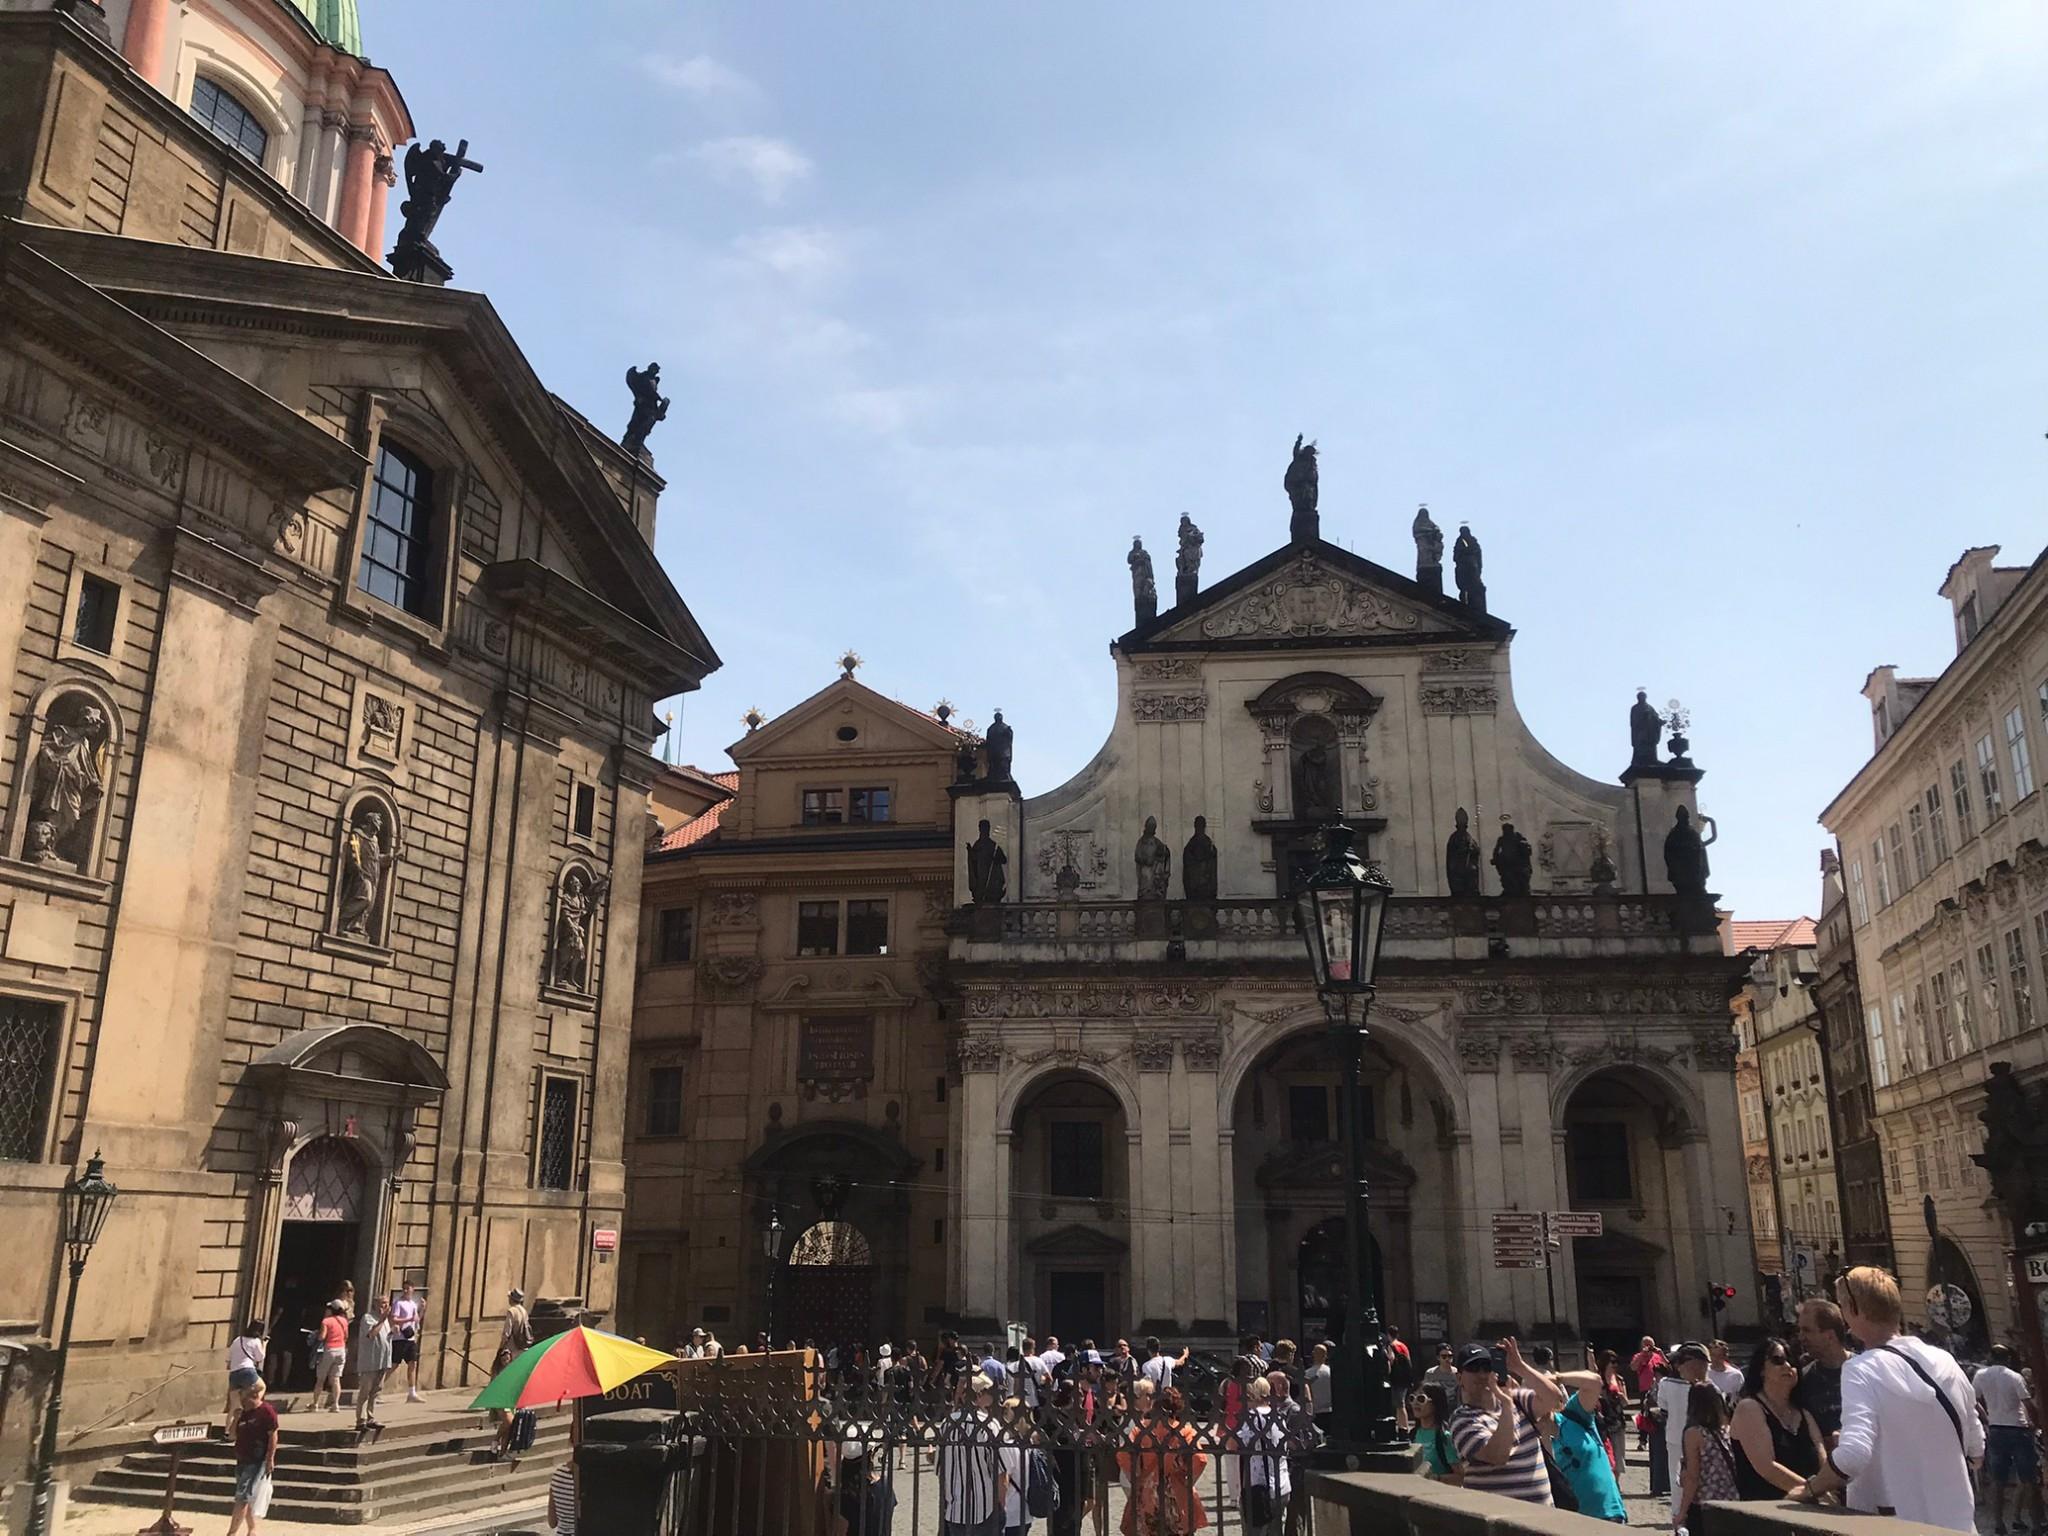people: (1837, 1266, 1987, 1536), (1528, 1363, 1634, 1516), (1743, 1337, 1837, 1505), (1454, 1346, 1549, 1499), (1799, 1299, 1854, 1460), (1678, 1337, 1734, 1499), (1146, 1390, 1204, 1531), (1987, 1346, 2034, 1516), (1246, 1378, 1290, 1536), (231, 1381, 278, 1525), (952, 1378, 993, 1534), (1666, 1343, 1713, 1478), (834, 1399, 887, 1508), (354, 1299, 393, 1443), (1407, 1372, 1452, 1487), (1013, 1399, 1046, 1536), (399, 1281, 437, 1393), (219, 1322, 269, 1402), (1131, 1387, 1169, 1487), (1066, 1413, 1104, 1508), (866, 1337, 910, 1416), (316, 1299, 343, 1408), (1307, 1346, 1337, 1419), (1143, 1337, 1187, 1381), (1110, 1337, 1140, 1384), (1643, 1337, 1669, 1390), (1043, 1334, 1069, 1375), (1234, 1337, 1263, 1372), (681, 1325, 707, 1358), (1428, 1346, 1457, 1372), (1081, 1343, 1104, 1372), (1281, 1343, 1290, 1393)
